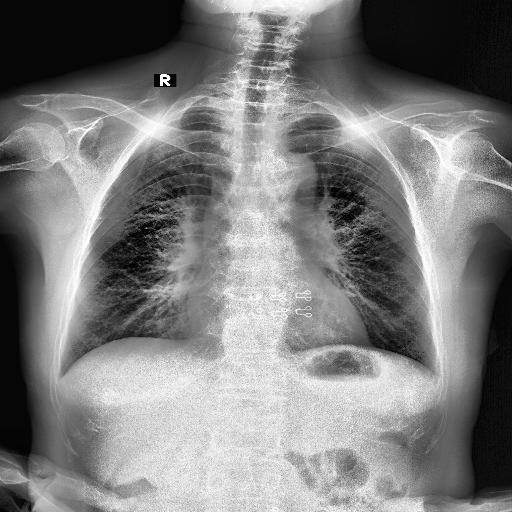0- Aortic enlargement: (258, 155, 316, 218), (264, 153, 317, 204), (264, 152, 316, 200)
